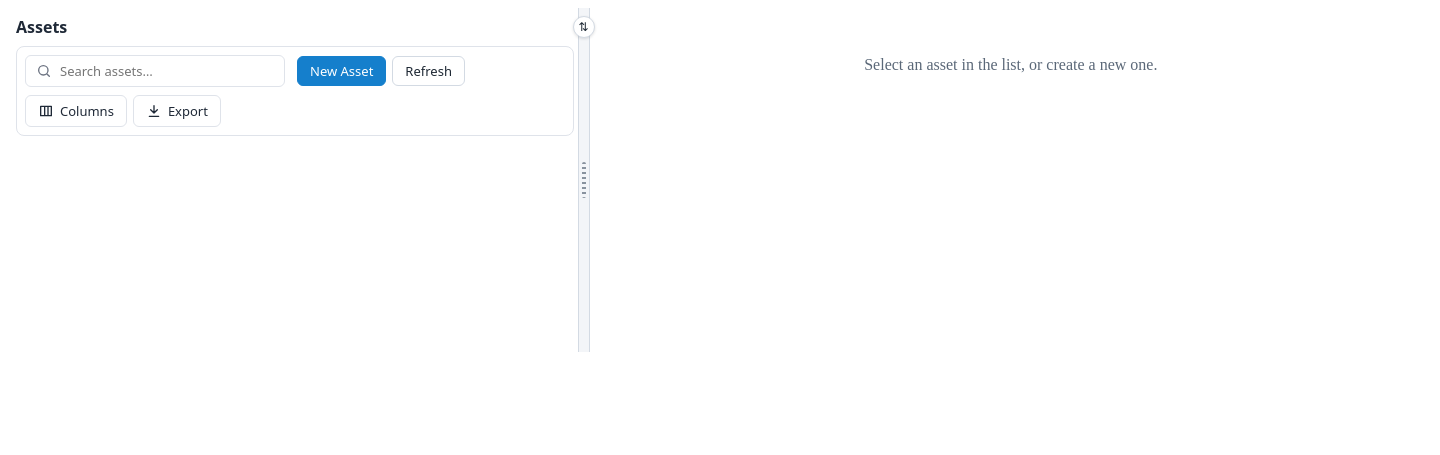
it: Master-Slave template › has a splitter that flips the orientation, remembers it and resets on double-click
Click the button with class "xf-ms-flip": (584, 27) x1=573 y1=16 x2=595 y2=38
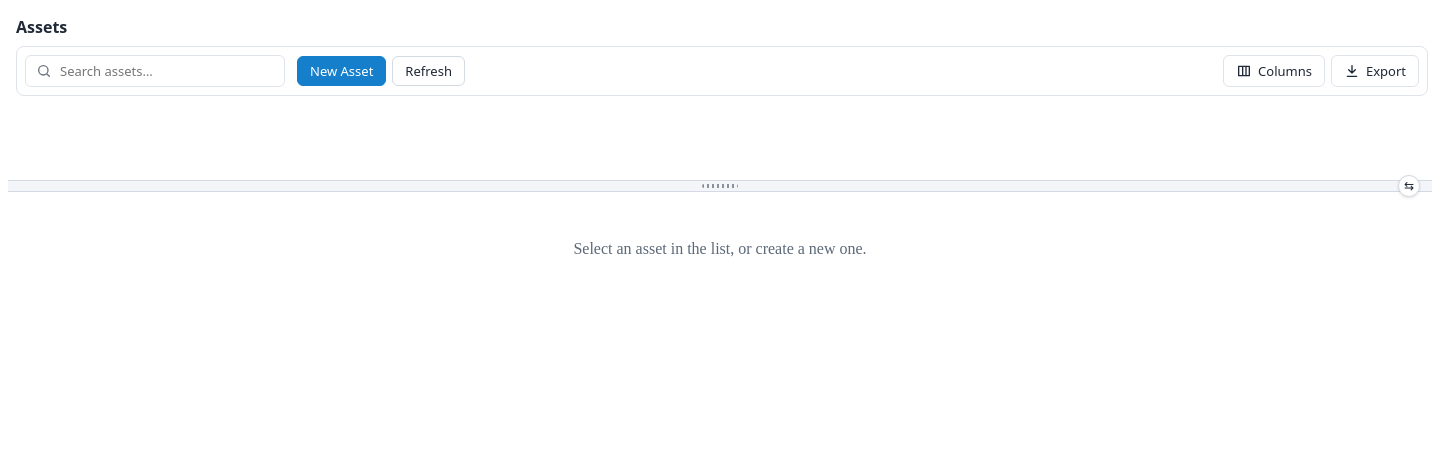
expect the element with class "xf-ms" has class "xf-ms-stacked": met
Press ArrowDown in the element showing "⇆", box x1=8 y1=180 x2=1432 y2=192
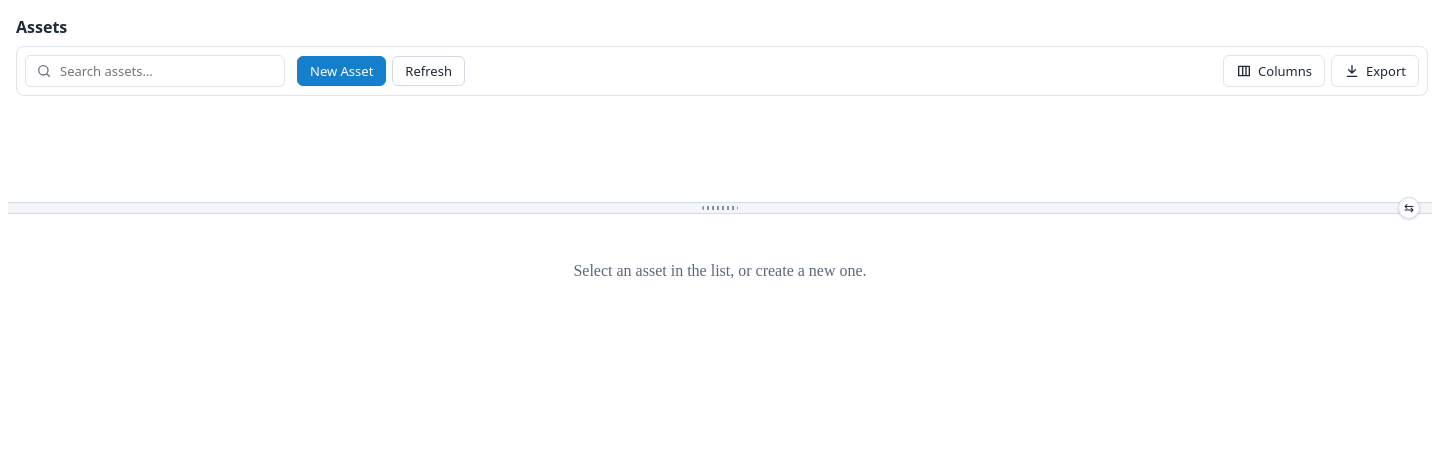
expect the element showing "⇆" has attribute aria-valuenow="45": met
Double-click the element showing "⇆": (720, 208) x1=8 y1=202 x2=1432 y2=214
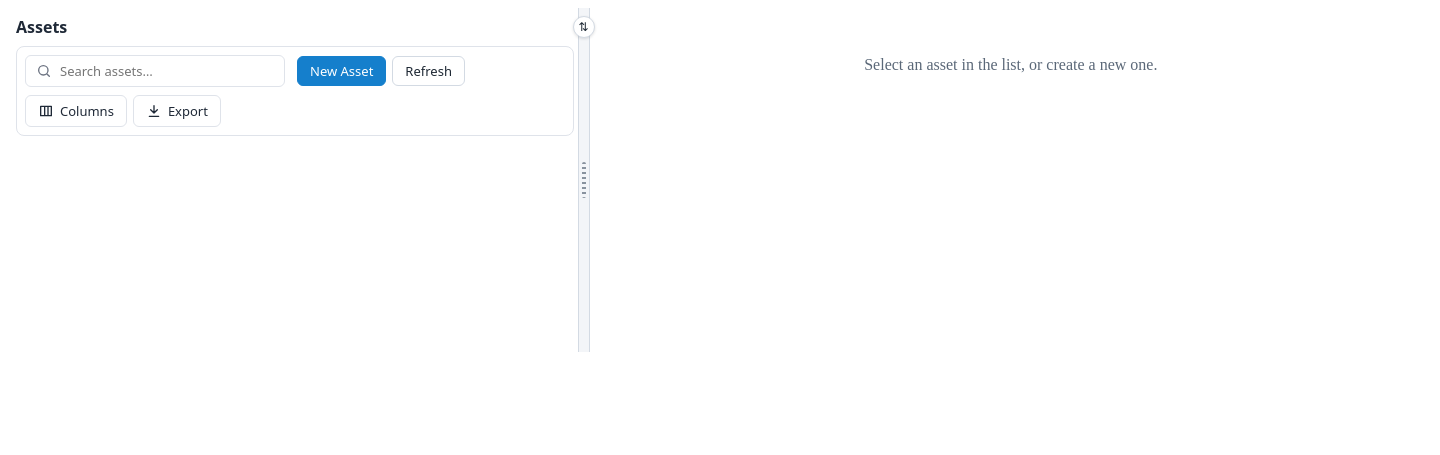
expect the element showing "⇅" has attribute aria-valuenow="40": met, box x1=578 y1=8 x2=590 y2=352
expect the element with class "xf-ms" does not have class "xf-ms-stacked": met
